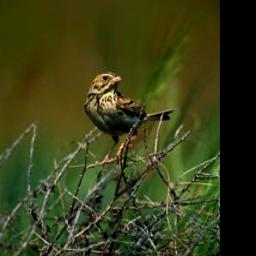Sparrow: (77, 70, 177, 174)
